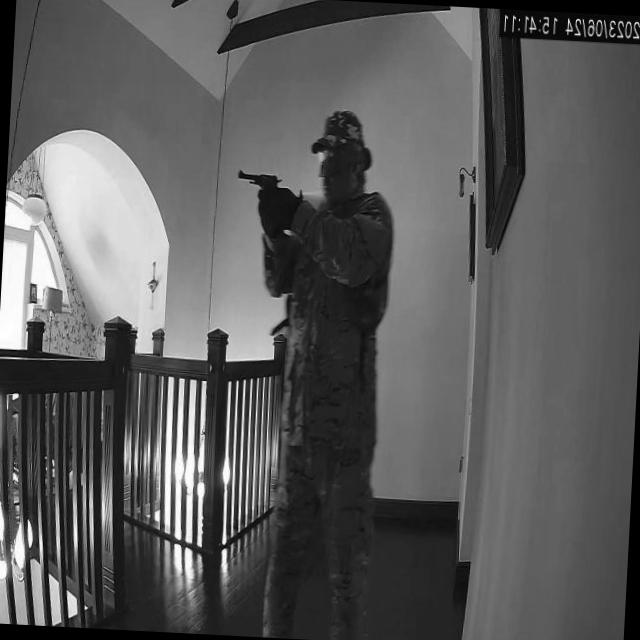gun: (234, 168, 284, 202)
person with a gun: (210, 99, 402, 638)
